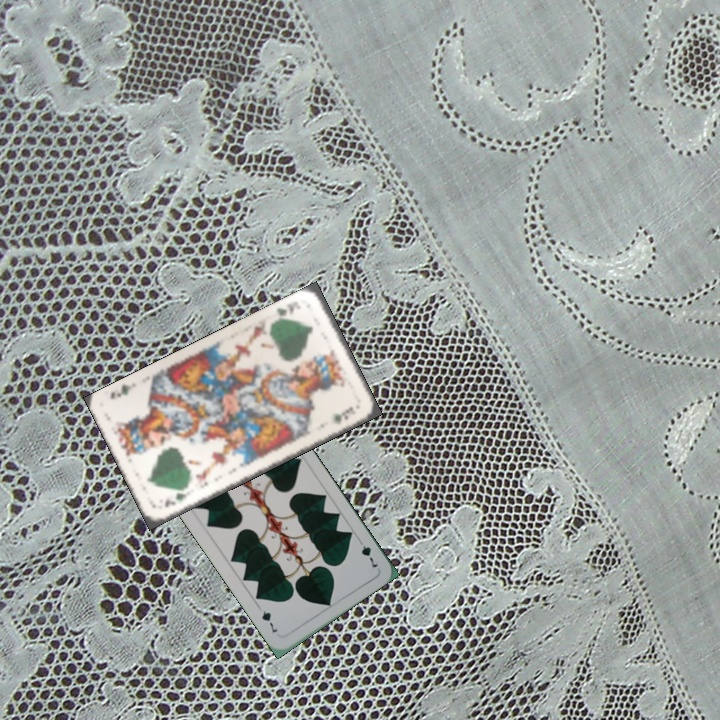G7: (354, 534, 381, 570)
GK: (272, 297, 304, 324), (160, 488, 193, 510)
